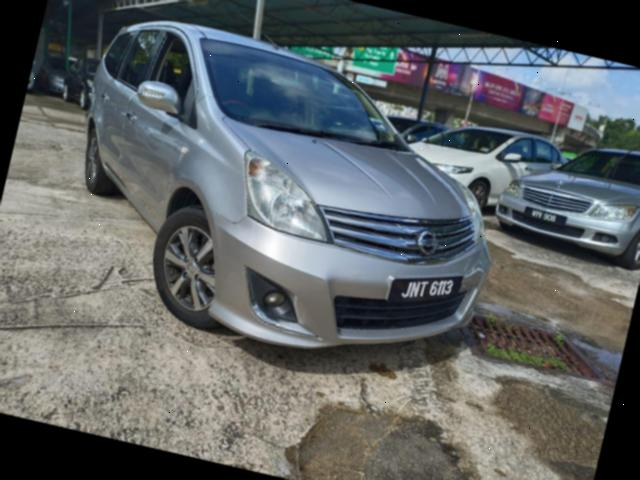License_Plate: (392, 261, 460, 317), (522, 202, 569, 230)
car: (42, 1, 532, 385), (495, 112, 640, 278)
